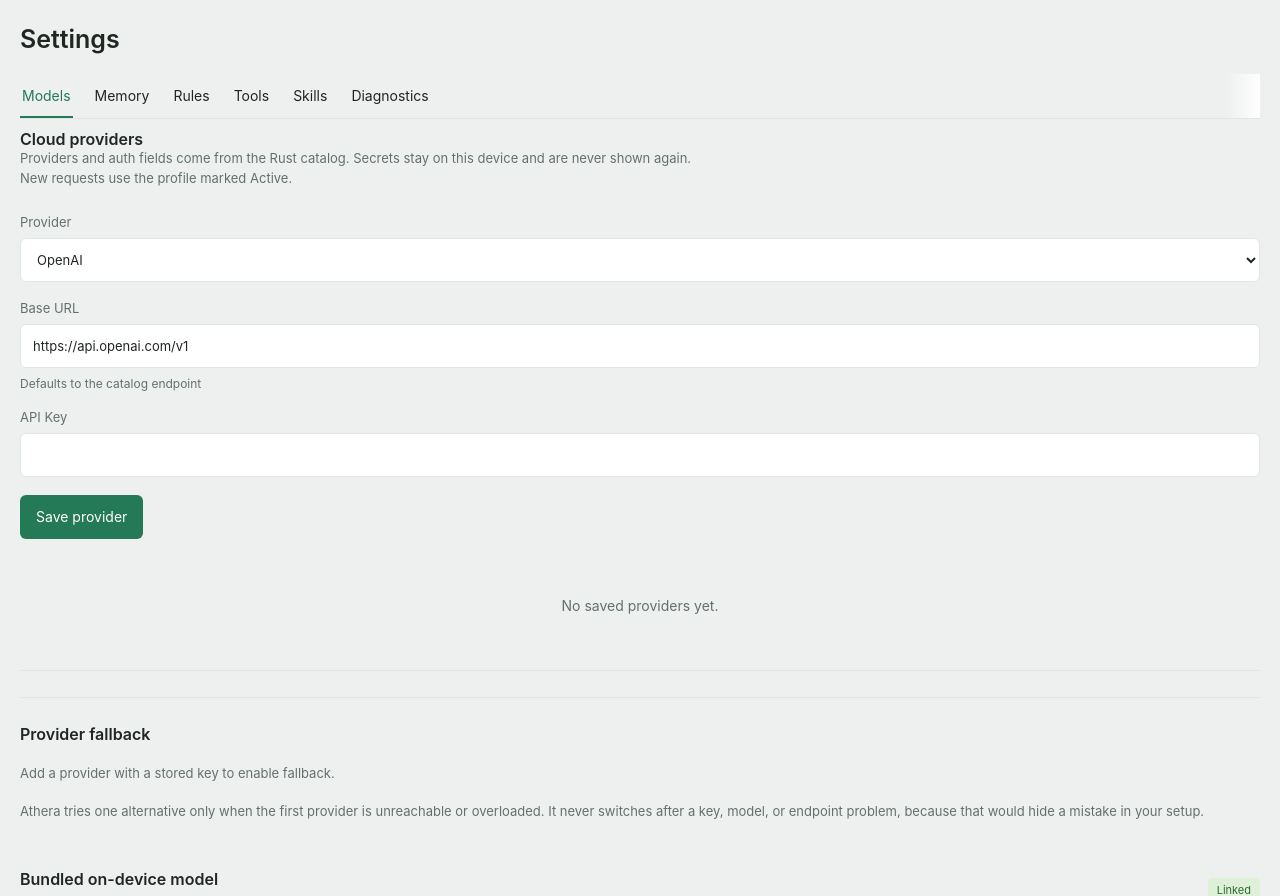
Scenario: renders catalog providers and saves a masked key through the profile command
Type "fixture-not-real-key" into the password field labelled "API Key" at [640, 455], box [20,433,1260,477]
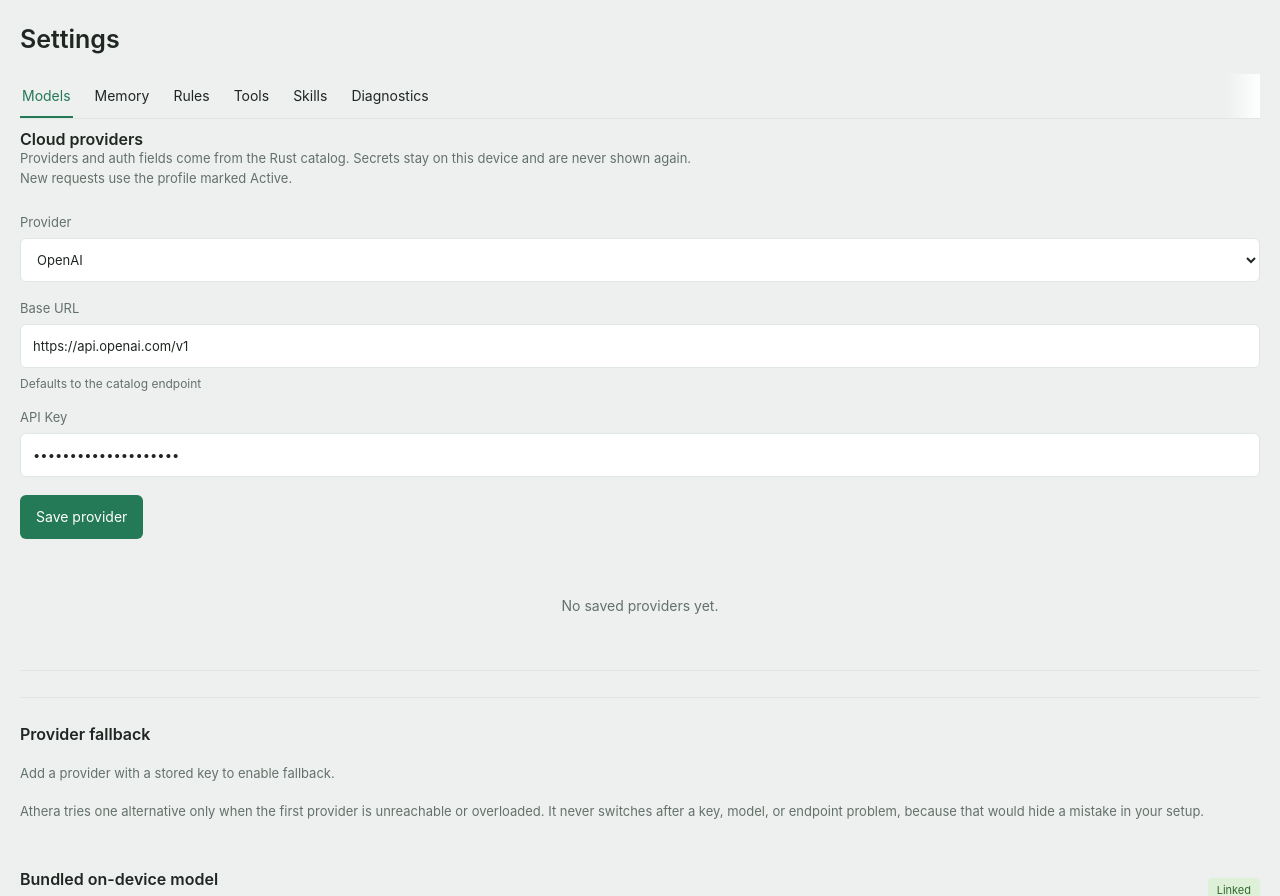
Click the button "Save provider" at [82, 517], box [20,495,143,539]
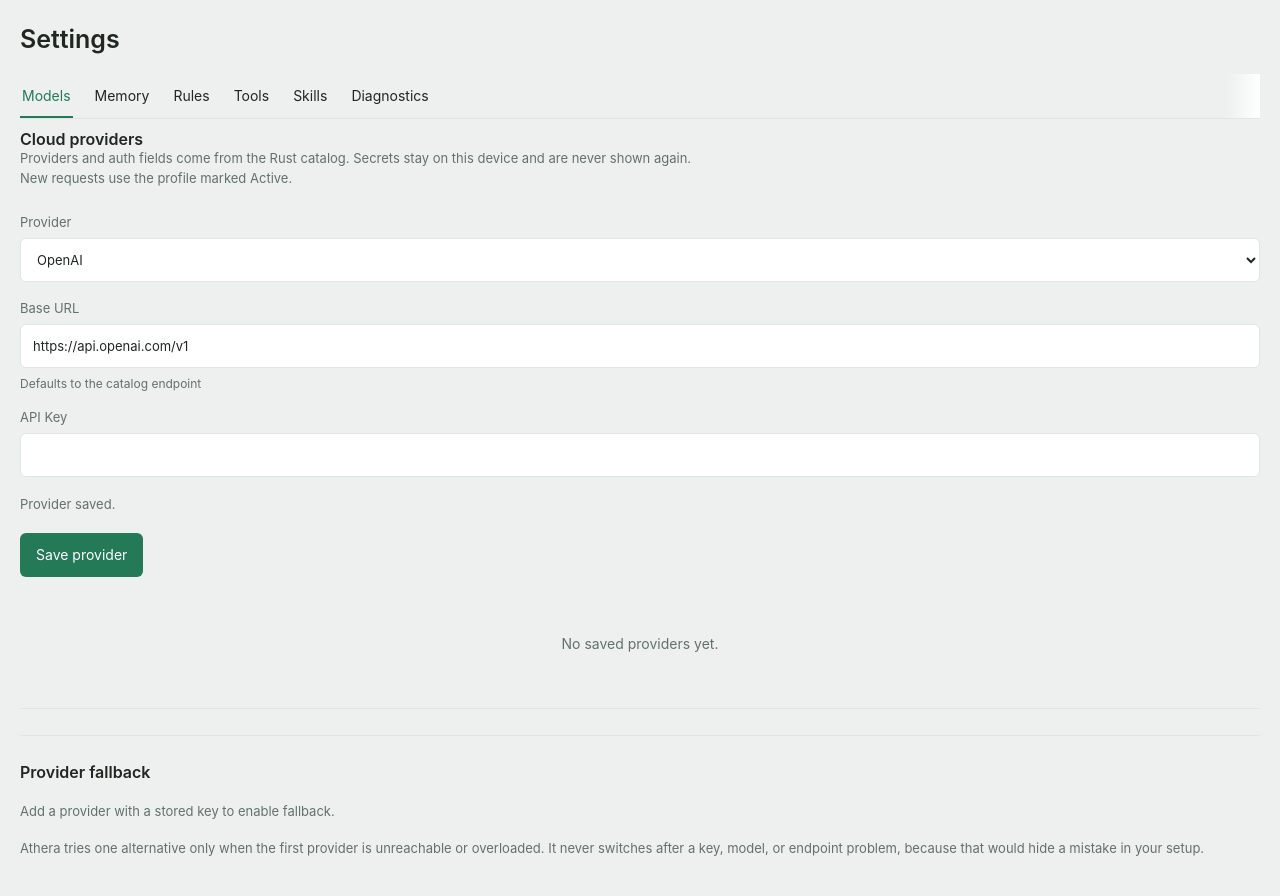
Expected: the text "Provider saved." is shown, [20,496,115,512]
